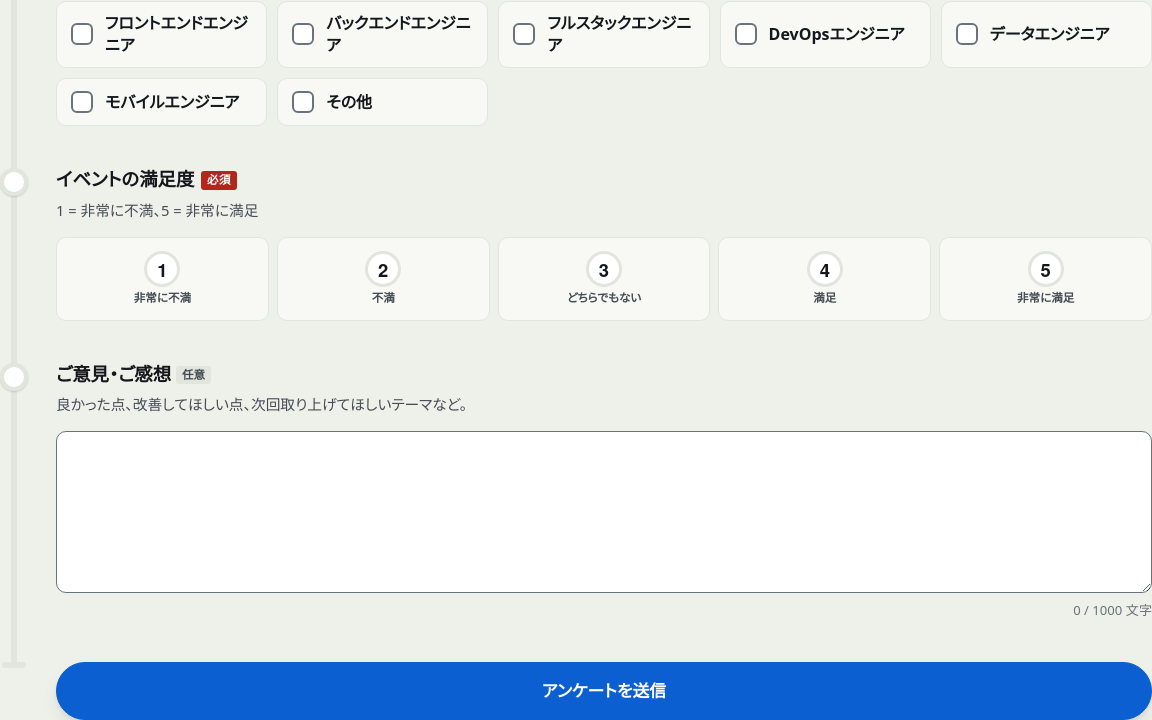
SurveyForm › 文字数カウンタが更新される
(page scrolled)
In the text box labelled "ご意見・ご感想 任意": (604, 512) top-left (56, 431), bottom-right (1151, 593), type "あいう"
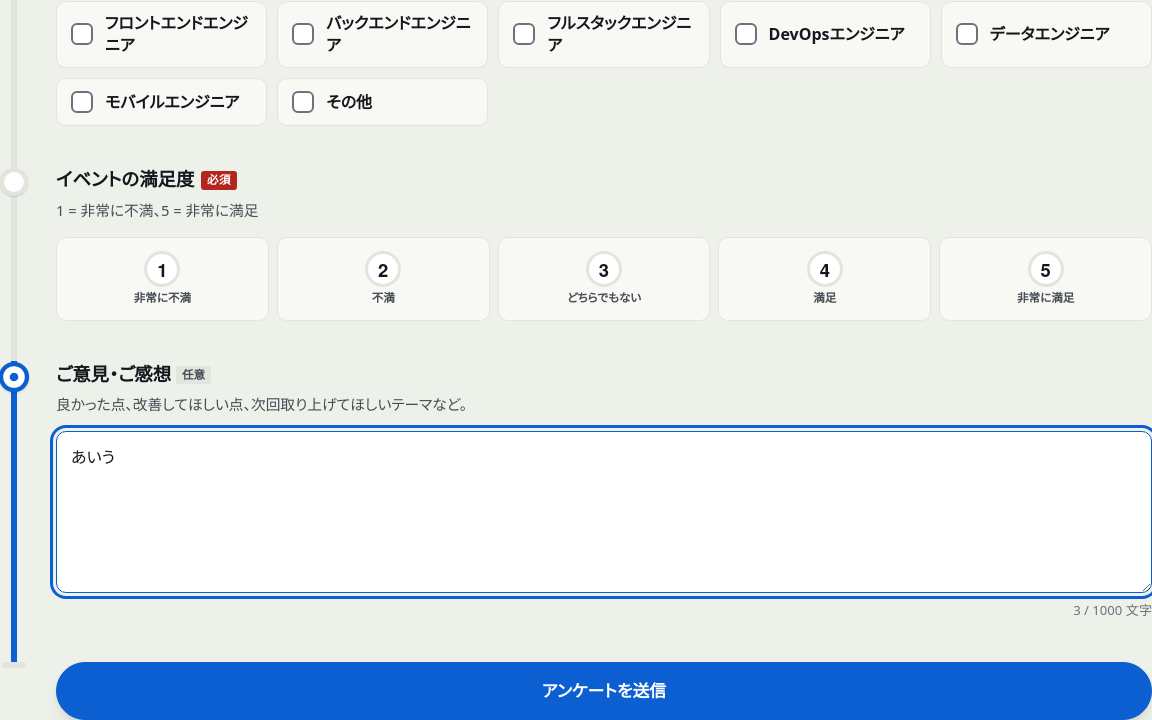
Expected: the text "3 / 1000 文字" is shown, top-left (1073, 601), bottom-right (1151, 619)
